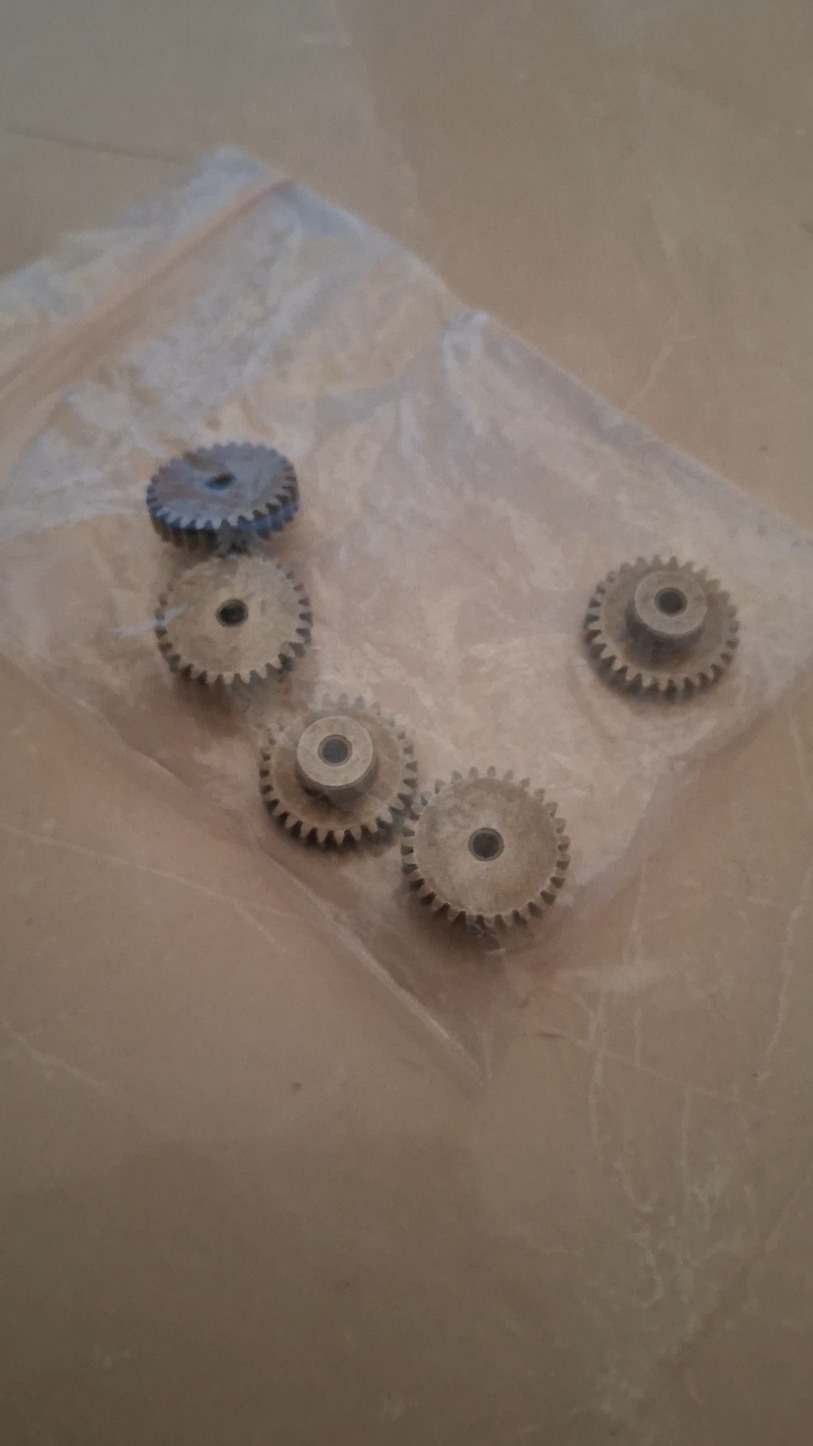spur gear: (402, 768, 569, 927), (260, 695, 417, 846), (585, 557, 738, 694), (156, 553, 312, 685), (146, 443, 298, 551)
